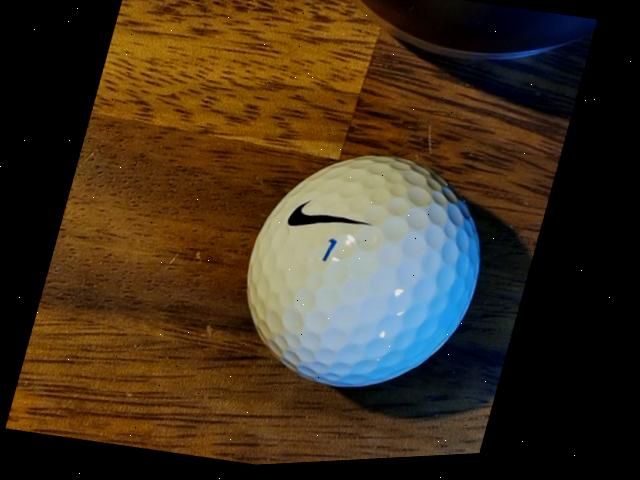Ball: (222, 135, 513, 418)
Nike: (286, 199, 379, 247)
